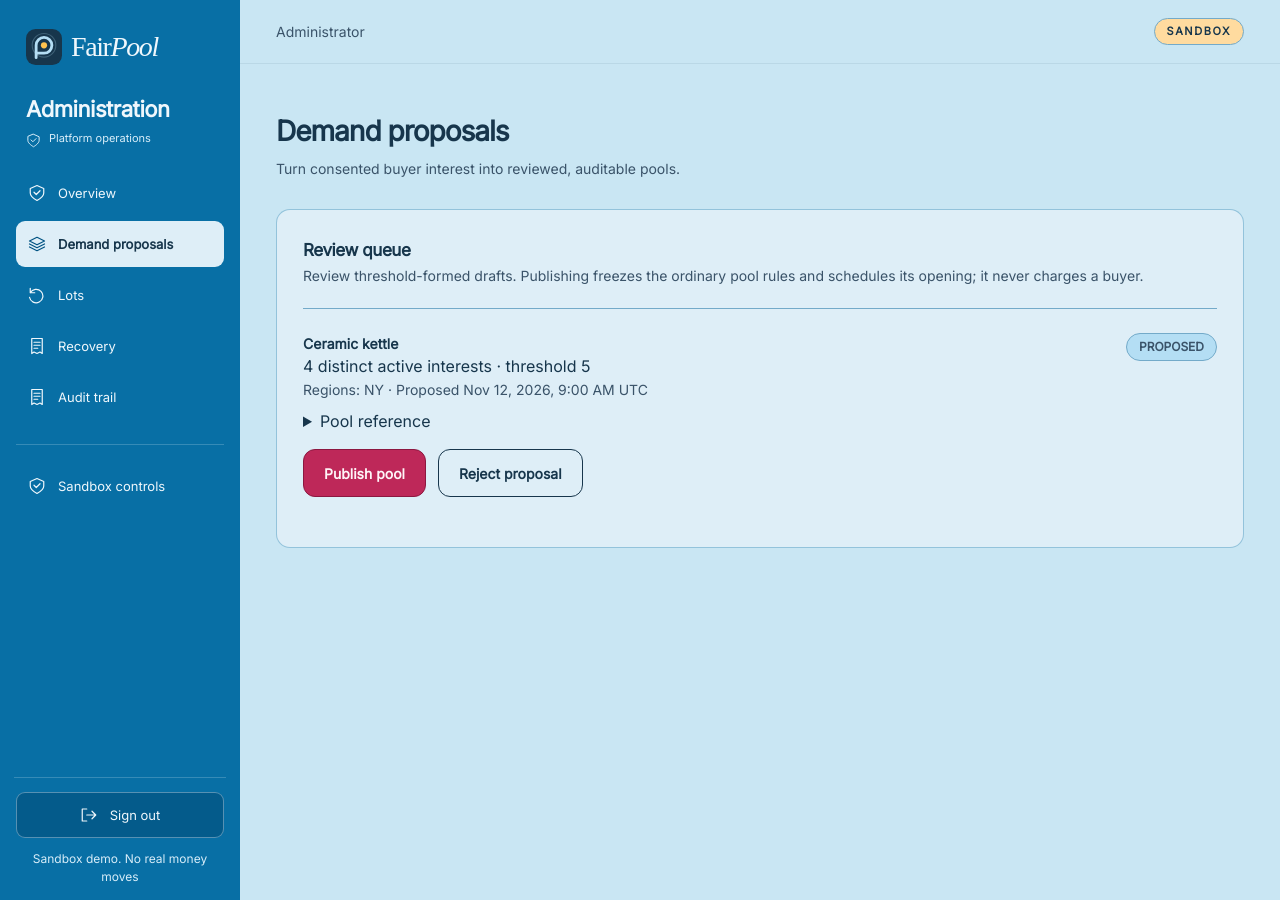
Test: lets an operator publish a proposed draft
Click the button "Publish pool". click: click(364, 473)
box: x1=303 y1=449 x2=426 y2=497
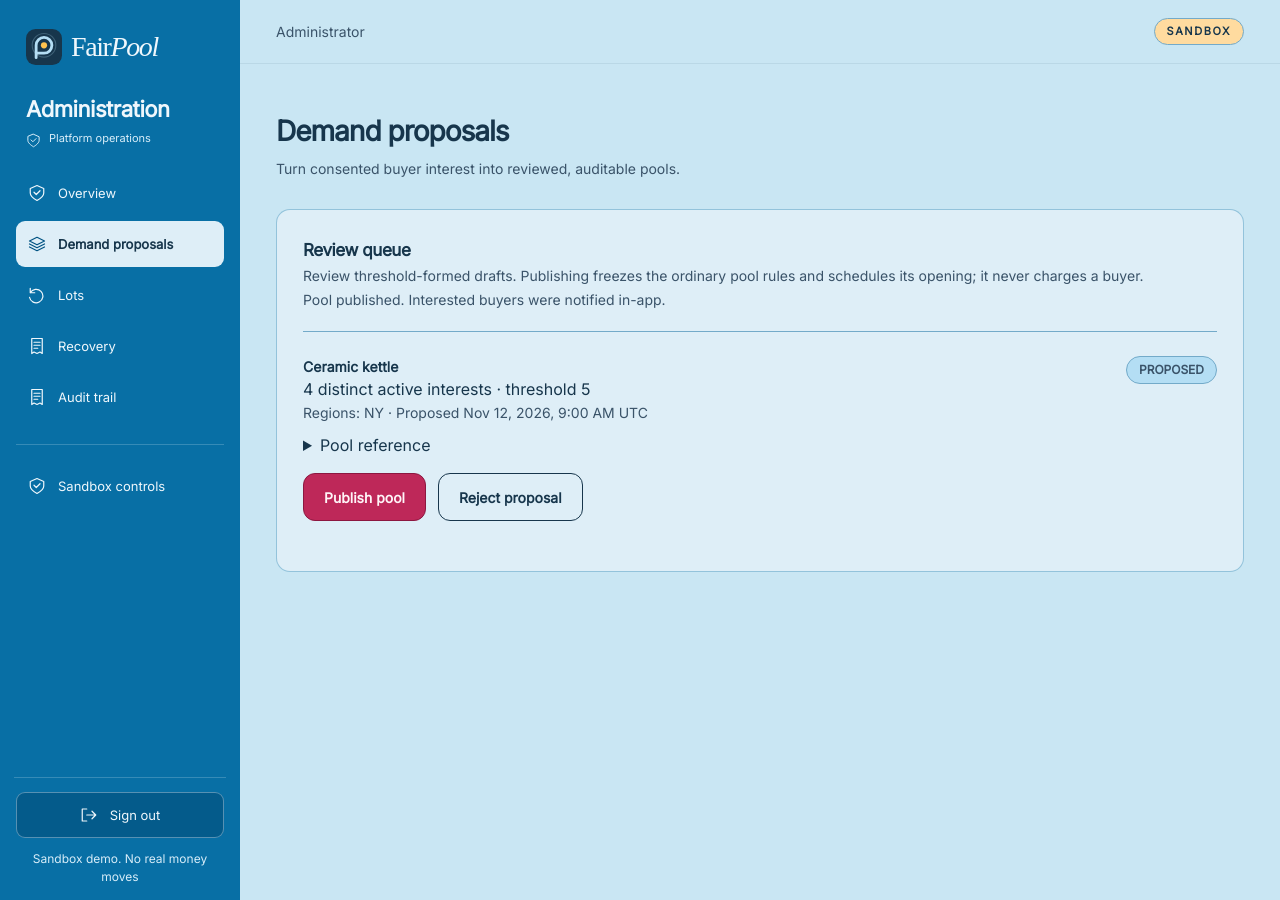
Result: the text "Pool published. Interested buyers were notified in-app." is shown at x1=303 y1=291 x2=666 y2=308
